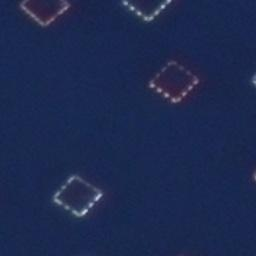square_solid: (49, 171, 110, 220), (144, 57, 204, 106), (15, 1, 75, 29), (115, 1, 177, 25)
